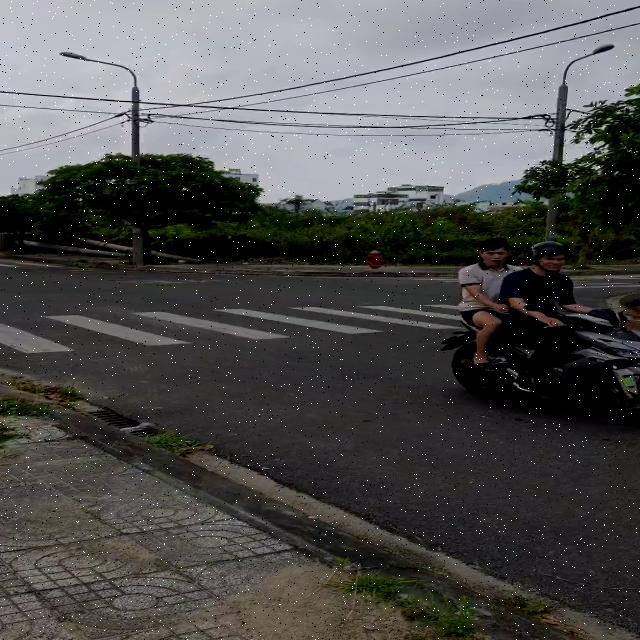helmet: (523, 241, 571, 262)
no_helmet: (475, 233, 507, 268)
